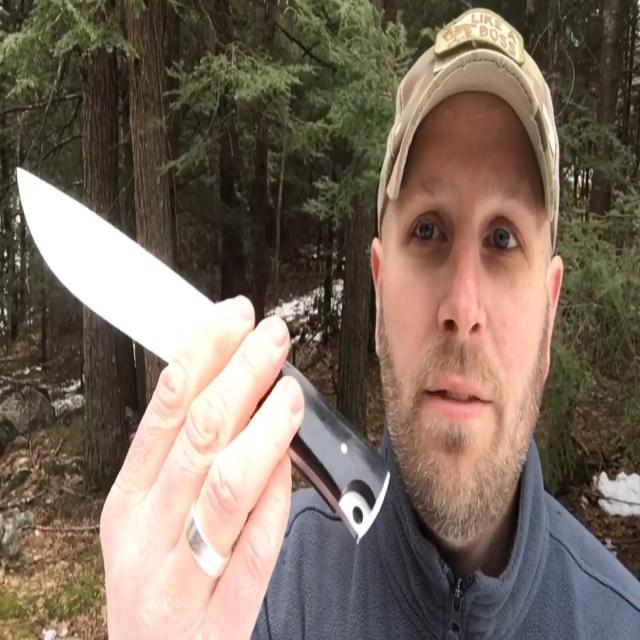knife: (16, 163, 394, 547)
